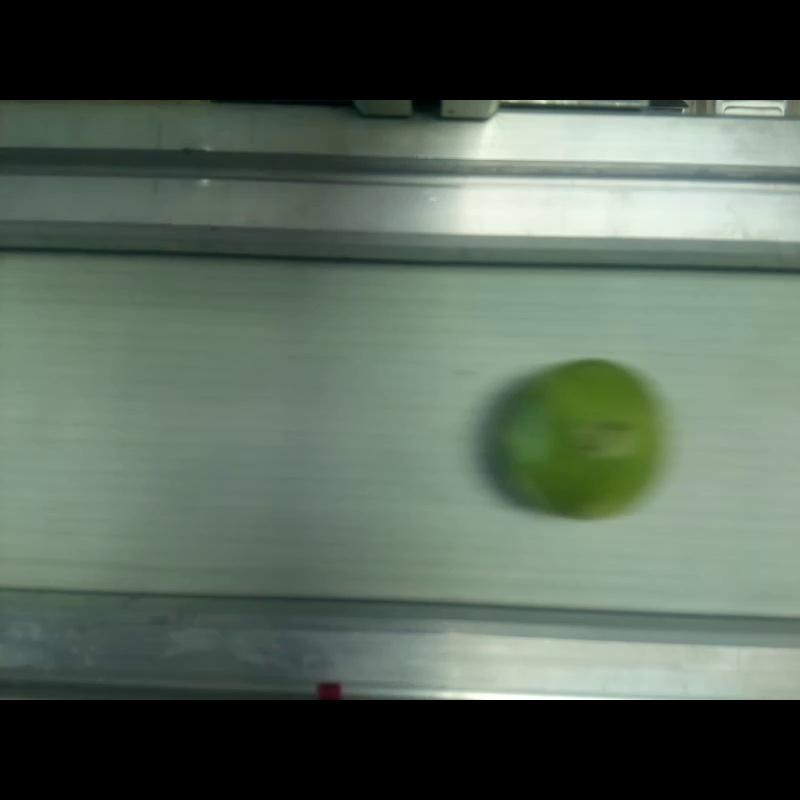lime: (498, 358, 659, 519)
